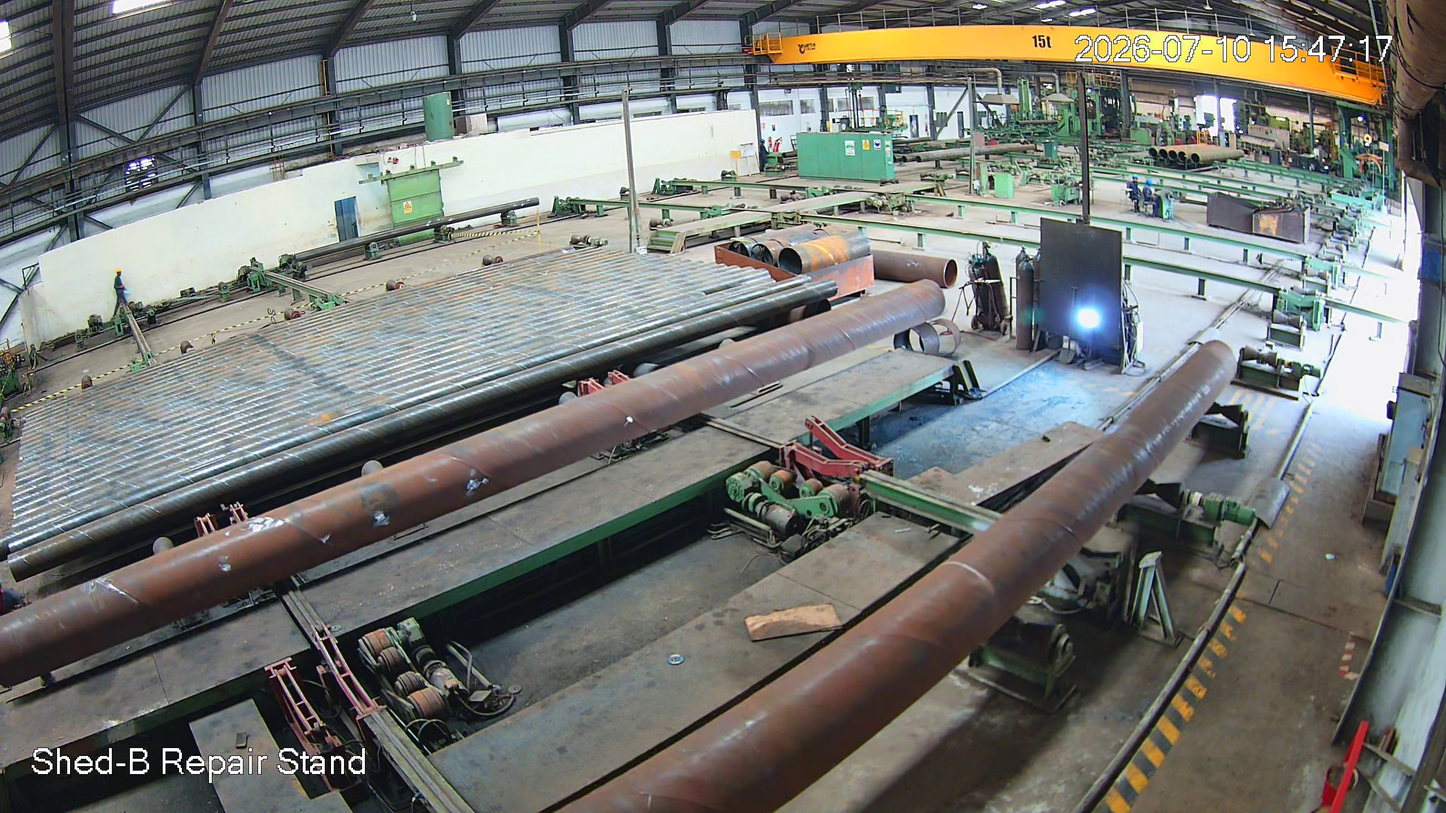Helmet: (113, 266, 124, 279)
Person: (107, 268, 131, 317)
